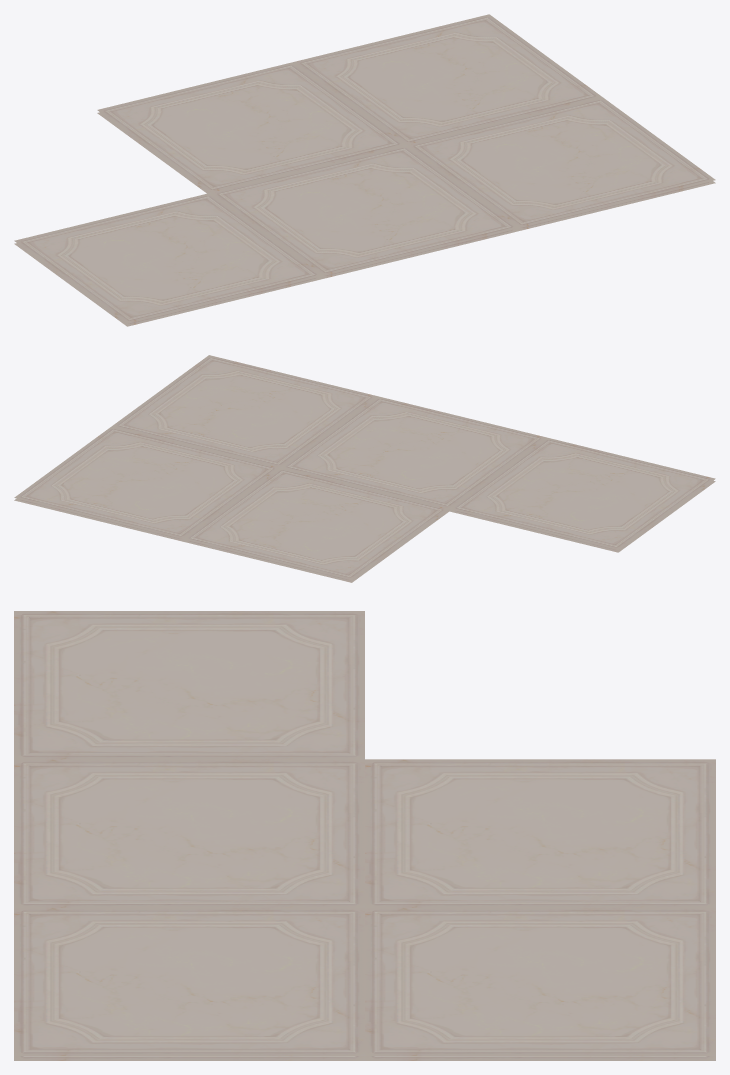
Rendered from Homeworld_Interior_Fd_Room_G_Ceiling_01_Vo.fbx.
The picture shows the model from 3 angles, top to bottom: view 1: azimuth 30°, elevation 25°; view 2: azimuth 150°, elevation 25°; view 3: azimuth 270°, elevation 25°; orthographic projection. The views are drawn at different scales.
Parts seen in each view (by area): view 1: Homeworld_Interior_Fd_Room_Ceiling_01_Vo (×5); view 2: Homeworld_Interior_Fd_Room_Ceiling_01_Vo (×5); view 3: Homeworld_Interior_Fd_Room_Ceiling_01_Vo (×5).
Part boxes in pixels (bbox=[...]): Homeworld_Interior_Fd_Room_Ceiling_01_Vo (×5): bbox=[14, 14, 715, 326]; Homeworld_Interior_Fd_Room_Ceiling_01_Vo (×5): bbox=[14, 355, 715, 582]; Homeworld_Interior_Fd_Room_Ceiling_01_Vo (×5): bbox=[14, 611, 715, 1060].
Size of the model in its own units: 15 by 0.074 by 10.
